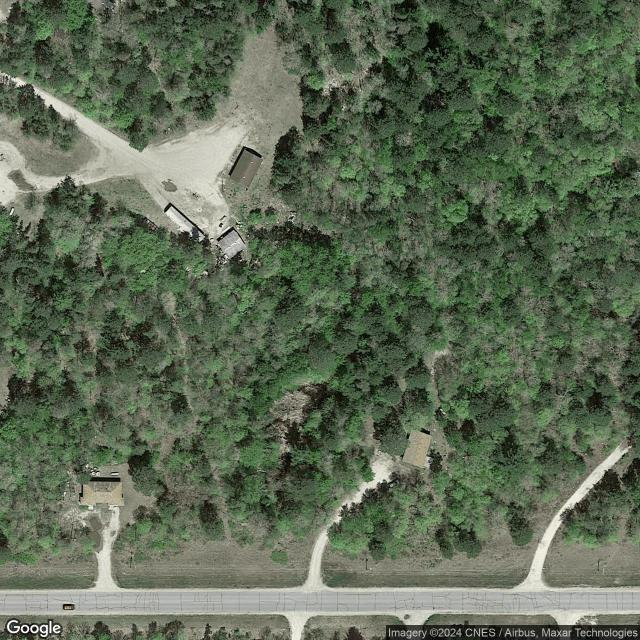Propane: (437, 406, 448, 417), (7, 206, 16, 217), (109, 471, 120, 476)
